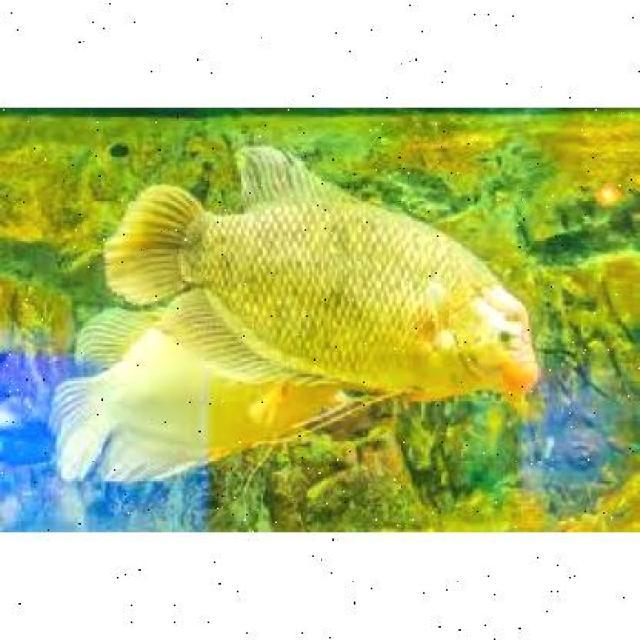gurame: (128, 148, 540, 397)
